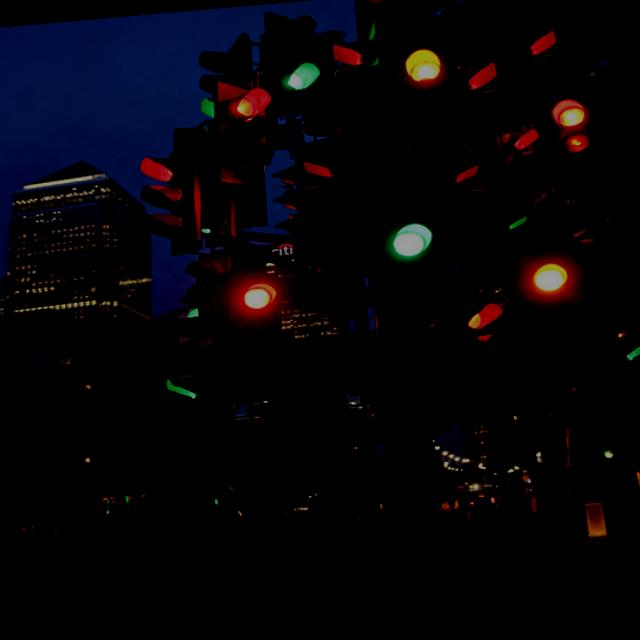Vehicle: (468, 488, 497, 512)
